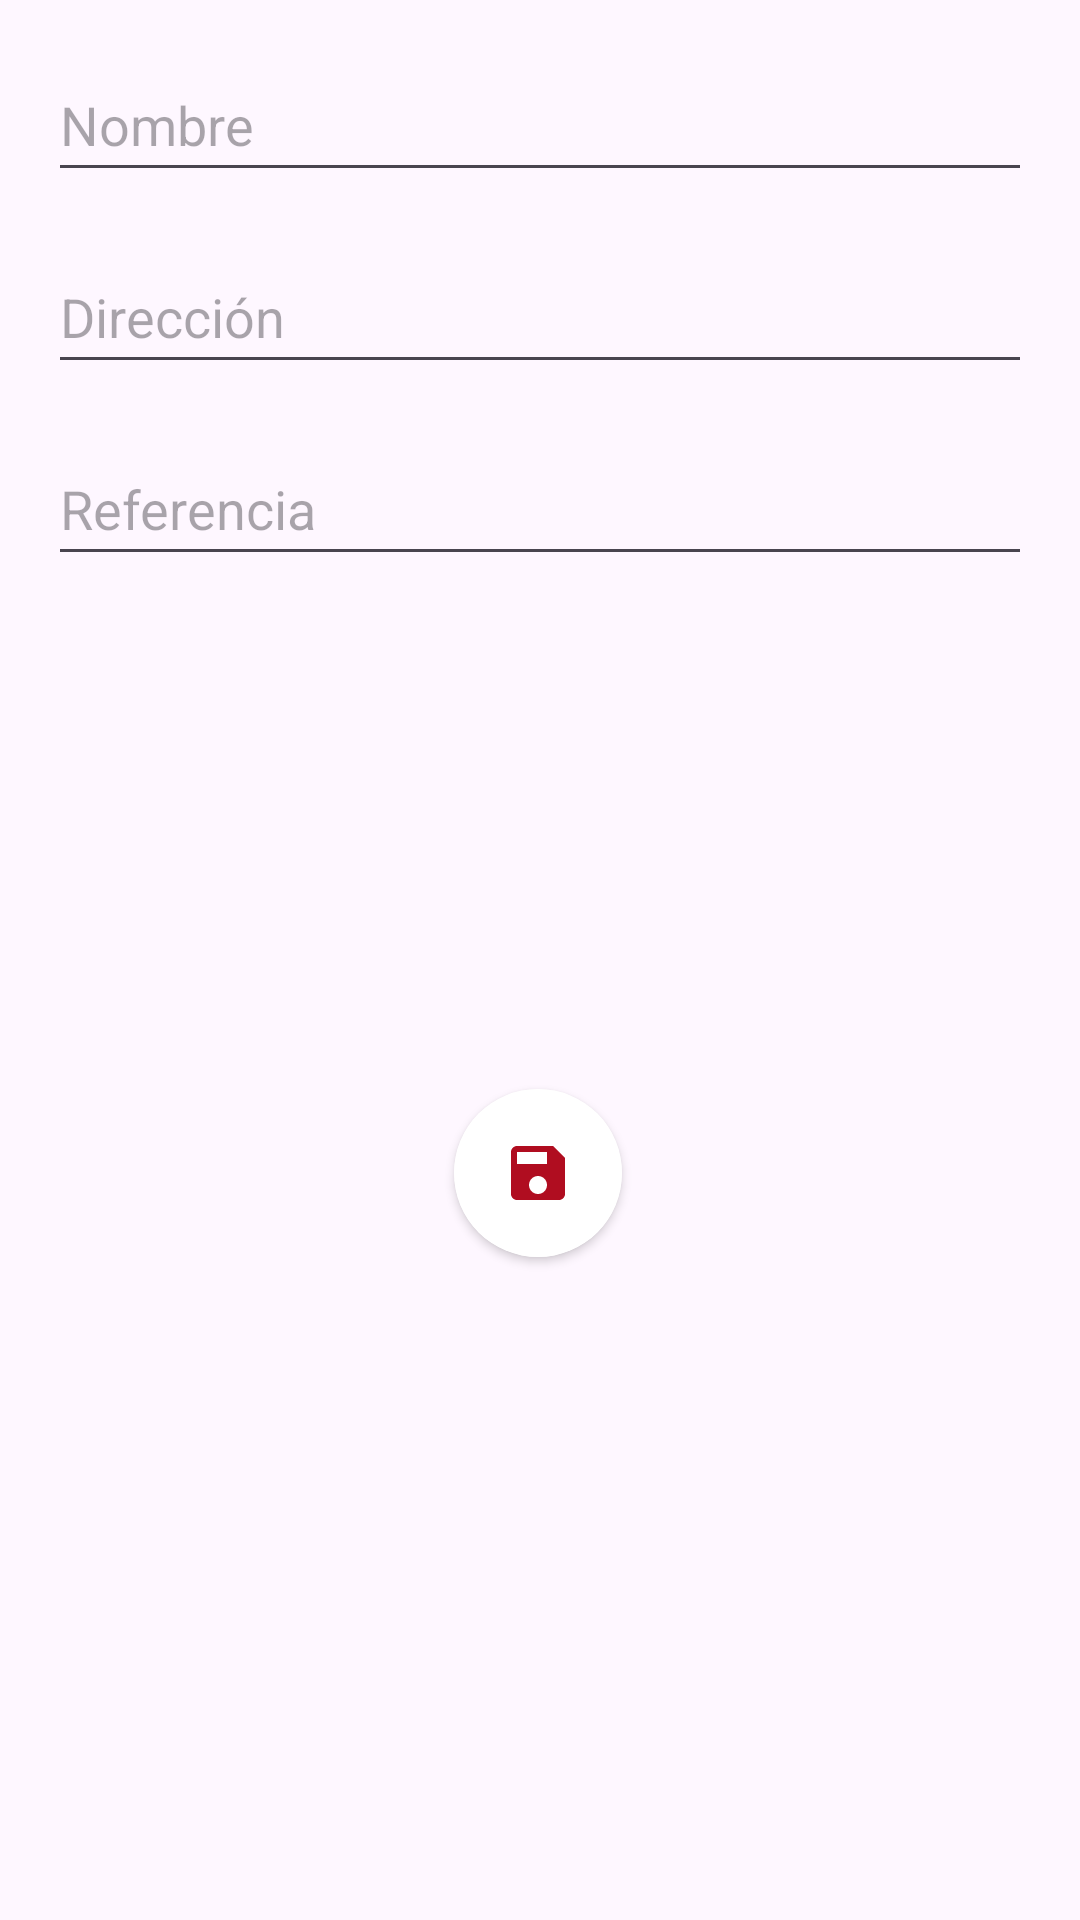

Screen size 1080 x 1920. Icon name, then its center in pixels as [x,y]:
save: [538,1173]
